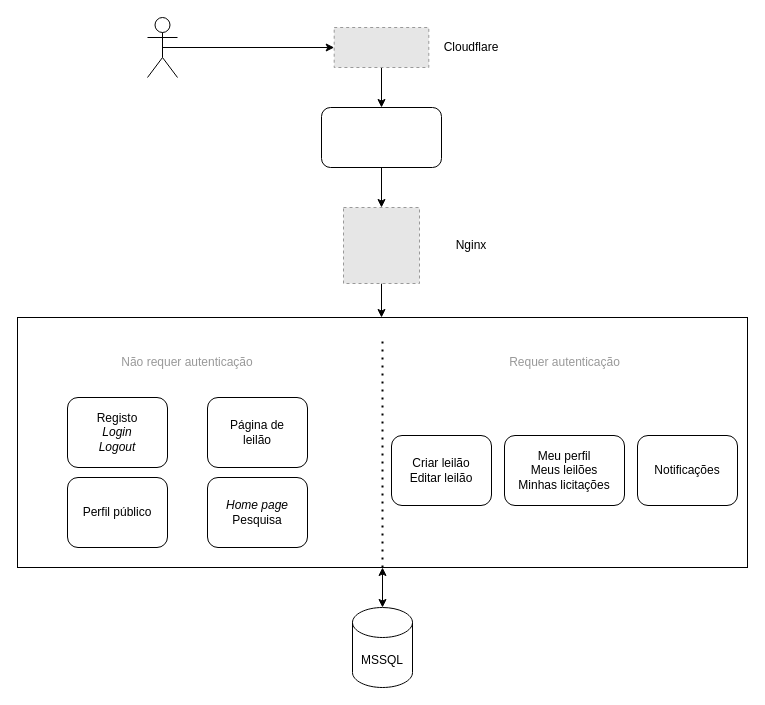
The diagram is 765 pixels wide and 705 high, and some of its shapes have lost their labels. Grey dashed boxes stand in for pictures. Each missing label, with the box of its shape:
ASP.NET Core (Razor Pages): (16, 316, 748, 568)
betterfinds.pt: (320, 106, 442, 168)
Utilizador: (146, 16, 178, 78)
